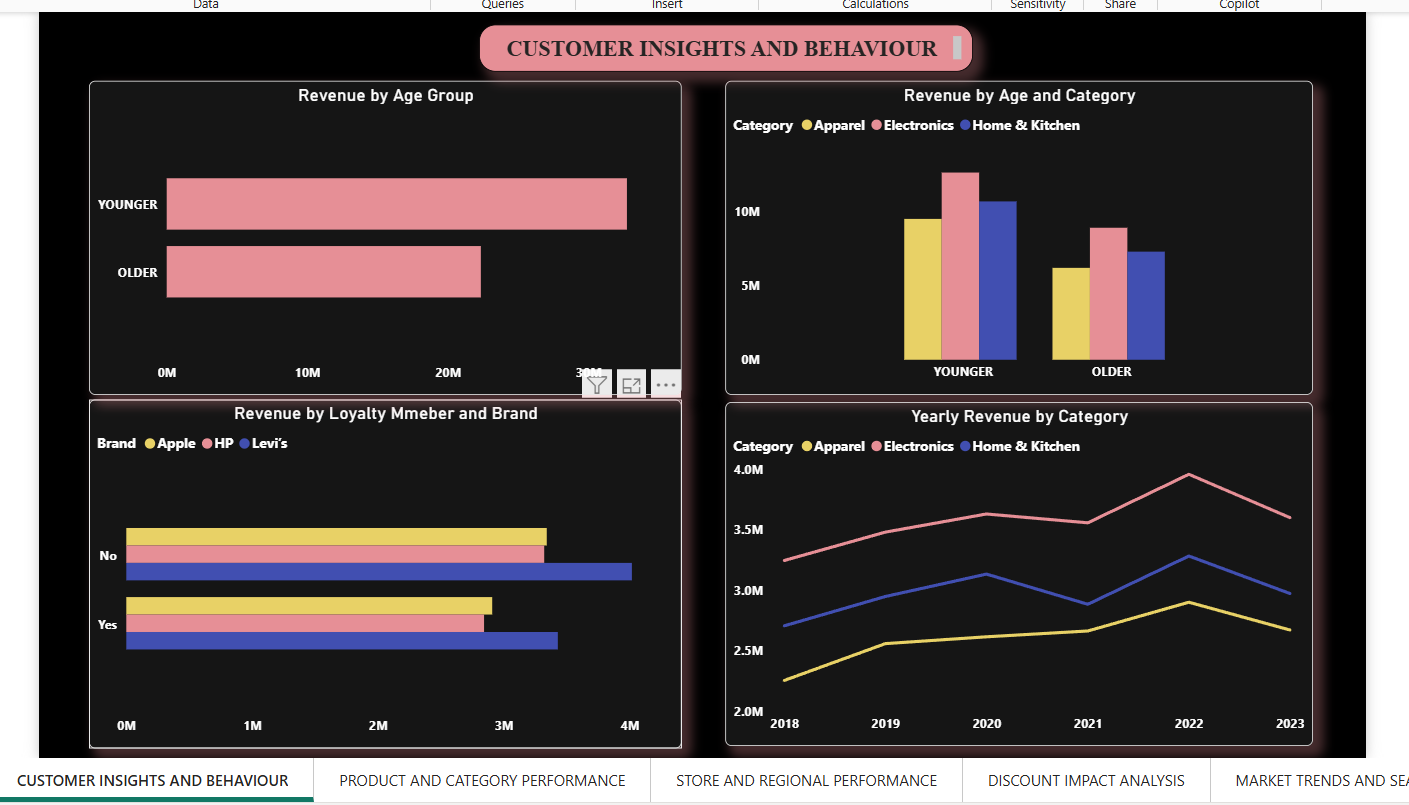

The dashboard page shown, as its layout file describes it:
{"tool":"powerbi","page":{"name":"CUSTOMER INSIGHTS AND BEHAVIOUR","canvas":[1280,720],"ordinal":0},"visuals":[{"type":"clusteredBarChart","title":"Revenue by Loyalty Mmeber and Brand","fields":{"Category":["Customers.LoyaltyMember"],"Y":["Sum(Sales.NetRevenue)"],"Series":["Products.Brand"]},"box":[48.3,374,571.9,336.6],"z":0},{"type":"clusteredBarChart","title":"Revenue by Age Group","fields":{"Y":["Sum(Sales.NetRevenue)"],"Category":["Customers.AGE TYPE"]},"box":[48.3,66.4,571.9,302.8],"z":1000},{"type":"clusteredColumnChart","title":"Revenue by Age and Category","fields":{"Category":["Customers.AGE TYPE"],"Y":["Sum(Sales.NetRevenue)"],"Series":["Products.Category"]},"box":[662.3,66.4,567,302.8],"z":2000},{"type":"lineChart","title":"Yearly Revenue by Category","fields":{"Category":["Customers.JoinDate.Variation.Date Hierarchy.Year"],"Series":["Products.Category"],"Y":["Sum(Sales.NetRevenue)"]},"box":[662.3,376.4,567,331.8],"z":3000},{"type":"textbox","box":[424.7,12.1,476.5,45.8],"z":4000}]}

Visuals, with their boxes on the page's 1280x720 design canvas (x1, y1, x2, y2). These are canvas units, not pixel positions in the 1409x805 screenshot, which may show the page scaled, cropped or inside an application window:
"Revenue by Loyalty Mmeber and Brand" clusteredBarChart: region(48, 374, 620, 711)
"Revenue by Age Group" clusteredBarChart: region(48, 66, 620, 369)
"Revenue by Age and Category" clusteredColumnChart: region(662, 66, 1229, 369)
"Yearly Revenue by Category" lineChart: region(662, 376, 1229, 708)
textbox: region(425, 12, 901, 58)
